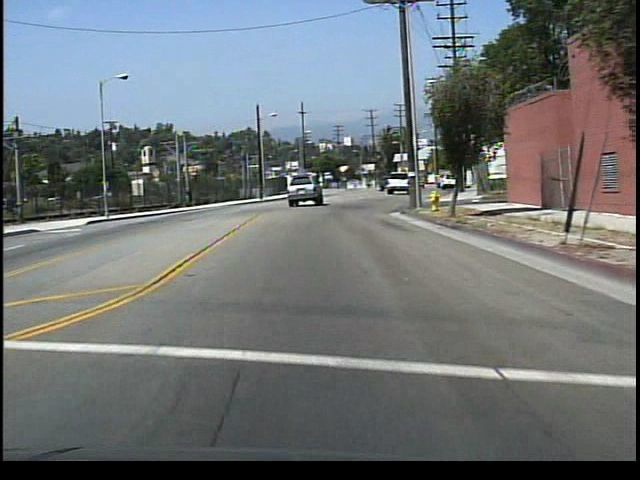person: (185, 186, 194, 210)
